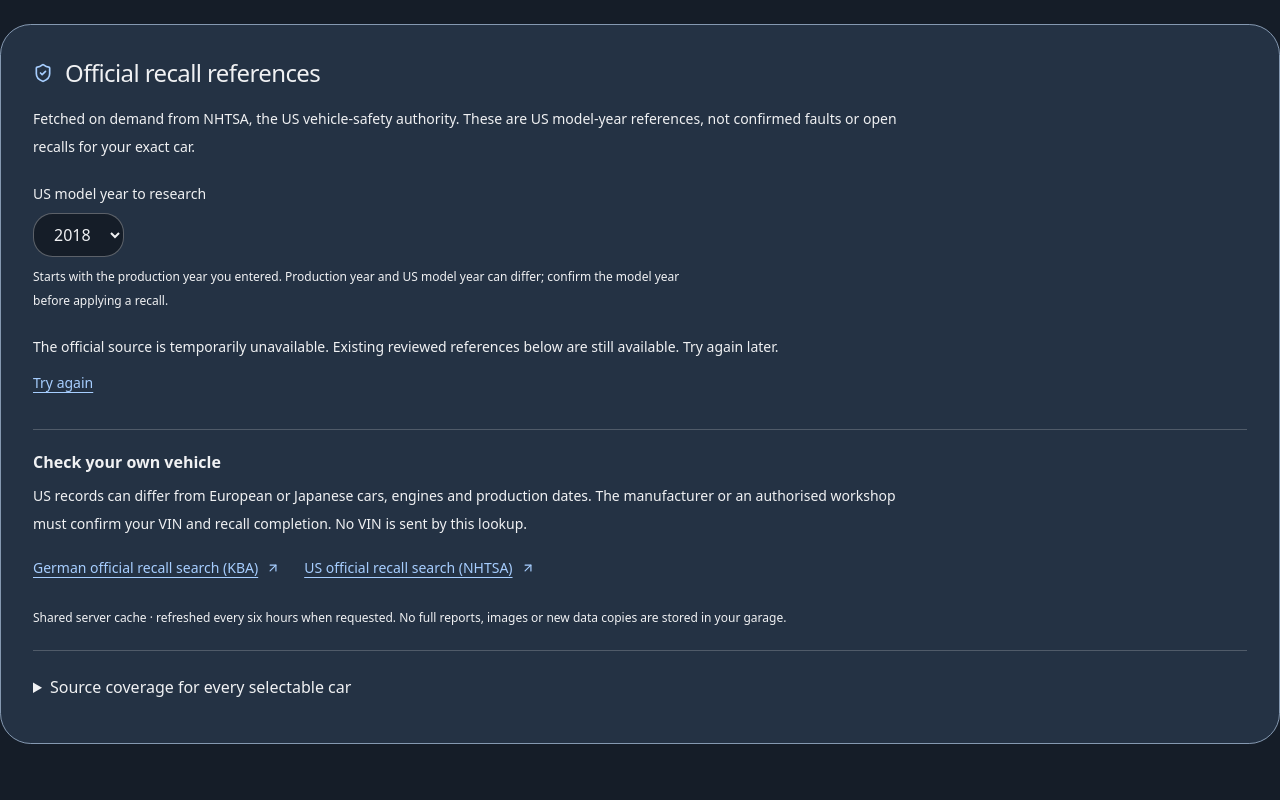
live source problem records › handles outages without claiming no problems, then lets the owner retry
The width and height of the screenshot is (1280, 800).
expect the text "The official source is temporarily unavailable" is shown: met, box [33,337,778,356]
expect the text "No records were returned" is not shown: met
Click the button "Try again".
click(63, 383)  # box [33,361,93,405]
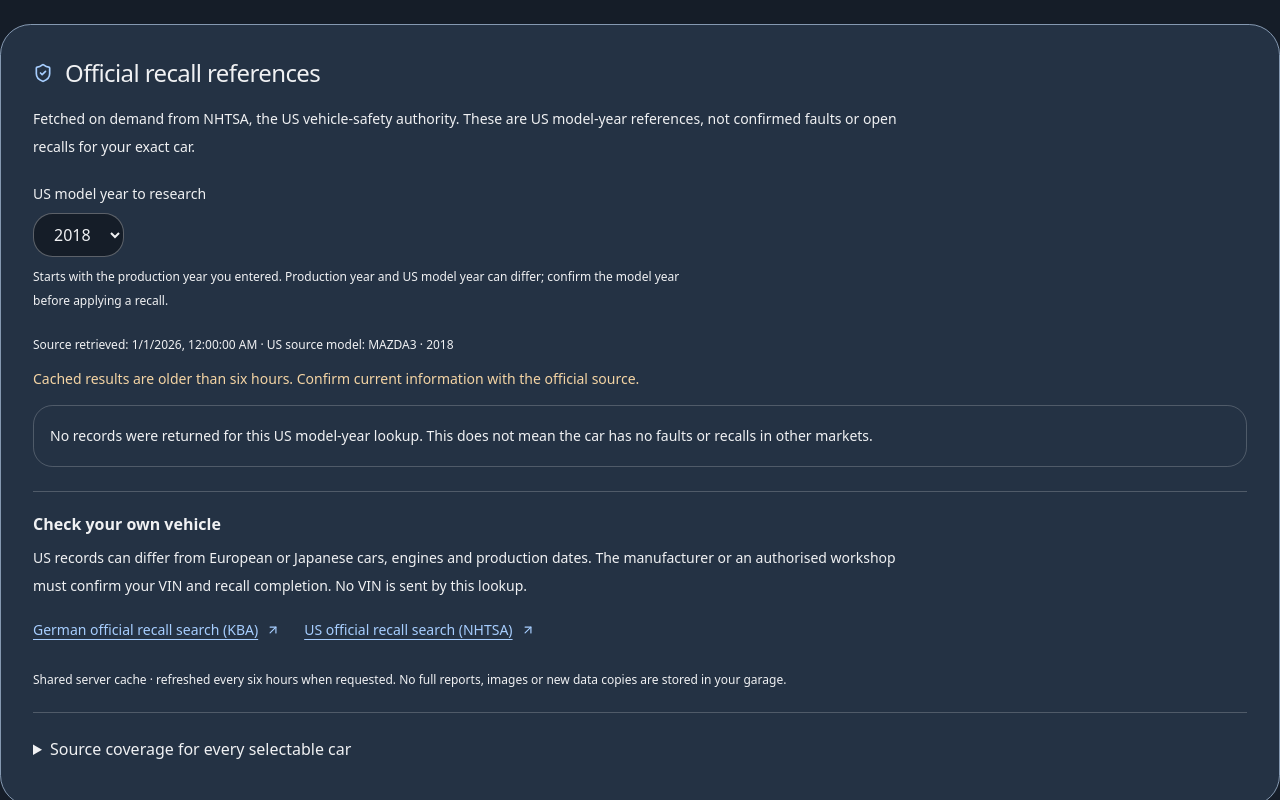
expect the text "No records were returned" is shown: met, box [50,426,873,445]
